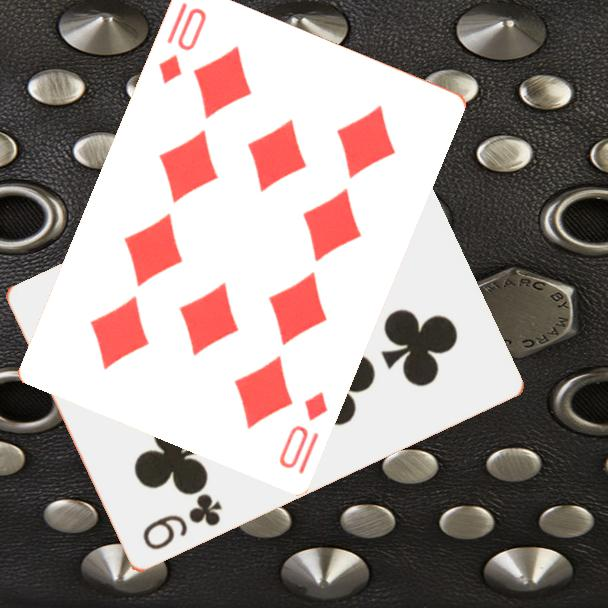c09: (139, 490, 225, 554)
d10: (275, 387, 331, 477), (154, 3, 210, 86)
